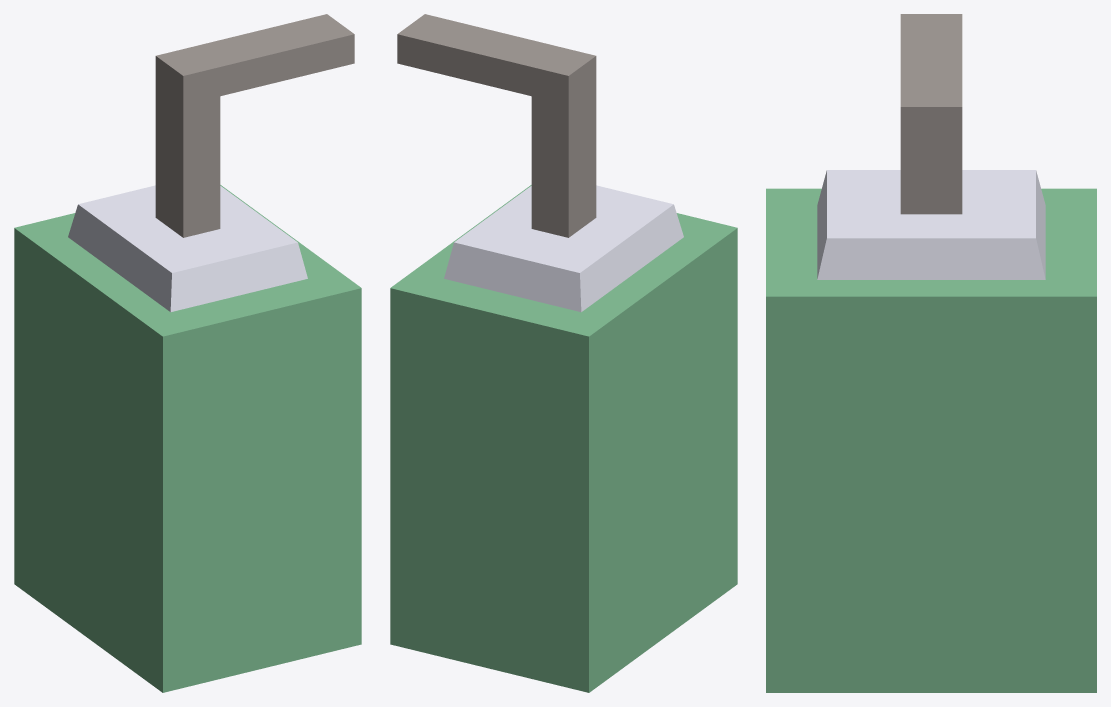
Rendered from soap.fbx.
3 views of the same model, side by side, from view 1: azimuth 30°, elevation 25°; view 2: azimuth 150°, elevation 25°; view 3: azimuth 270°, elevation 25° (orthographic). The views are drawn at different scales.
Parts seen in each view (by area): view 1: soap; view 2: soap; view 3: soap.
Part boxes in pixels (box(x1,y1,x2,y2)): soap: box(14, 14, 361, 692); soap: box(390, 14, 737, 692); soap: box(766, 14, 1096, 692).
Bounding box in the file's own units: 21.26 × 20.84 × 43.62.
